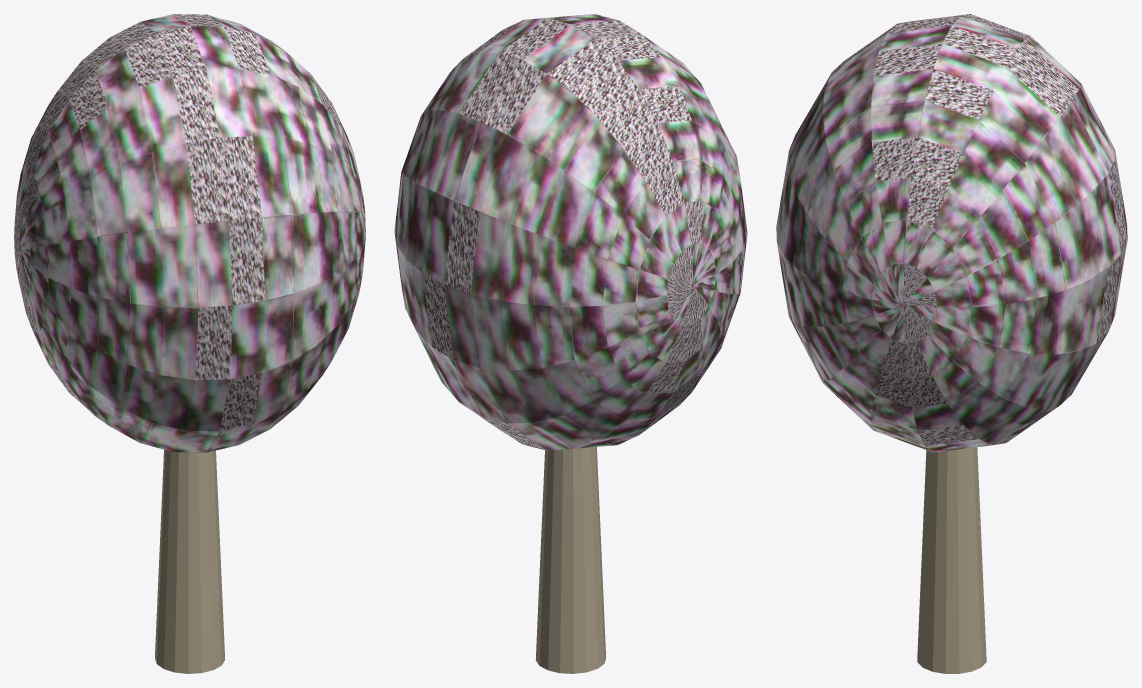
The model's file is GMLID_SO0107241_3793_12555.gltf.
3 views of the same model, side by side, from view 1: azimuth 30°, elevation 25°; view 2: azimuth 150°, elevation 25°; view 3: azimuth 270°, elevation 25° (orthographic).
Parts seen in each view (by area): view 1: Z_UP; view 2: Z_UP; view 3: Z_UP.
Part boxes in pixels (x1,y1,x2,y2): Z_UP: [14, 14, 365, 673]; Z_UP: [394, 14, 747, 673]; Z_UP: [776, 14, 1127, 673].
Bounding box in the file's own units: 6.75 × 13.43 × 6.75.
Materials: 2 (1 with a texture image).
